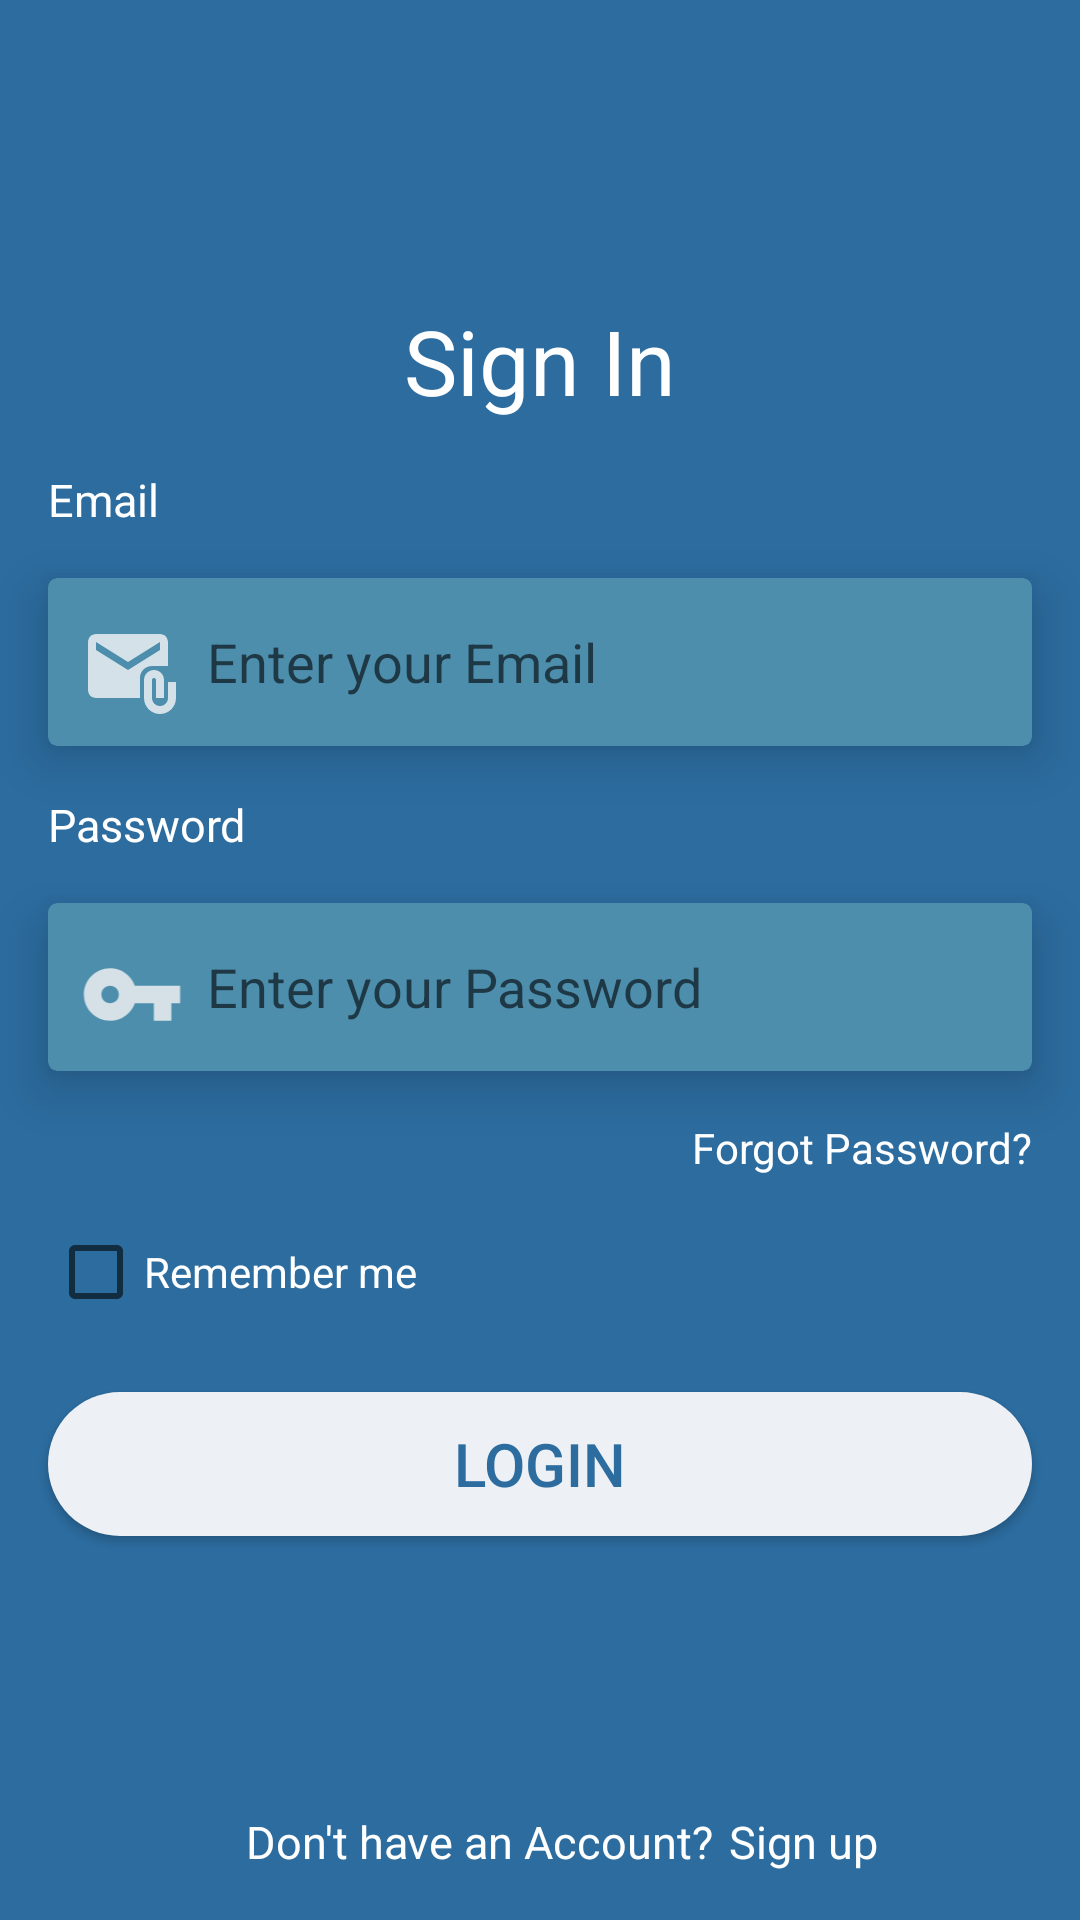

Locate icon controls on the screen. Image size 1080px x 1920px, boxes as (x1, y1, x2, y2).
vpn key: (83, 968, 181, 1021)
